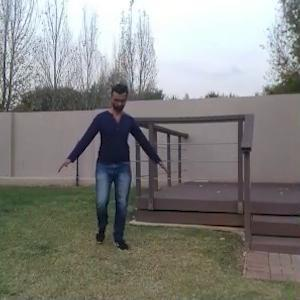land: (67, 79, 171, 260)
